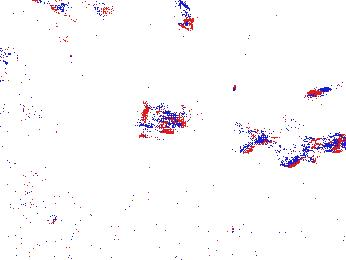X-ray fish: (5, 167, 71, 209), (38, 184, 78, 221)
red belly glassfish: (305, 82, 343, 102), (176, 1, 196, 31)
redtail glassfish: (234, 116, 346, 155), (136, 104, 192, 141), (30, 1, 116, 21)
